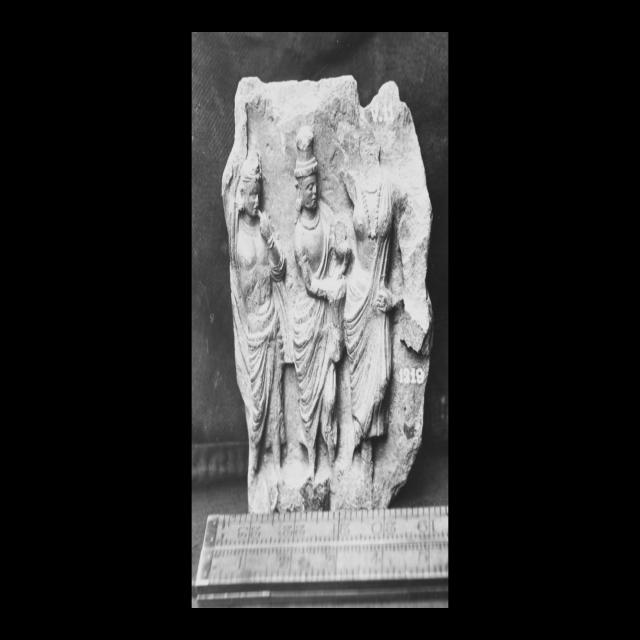buddha-sitting: (323, 196, 362, 331)
